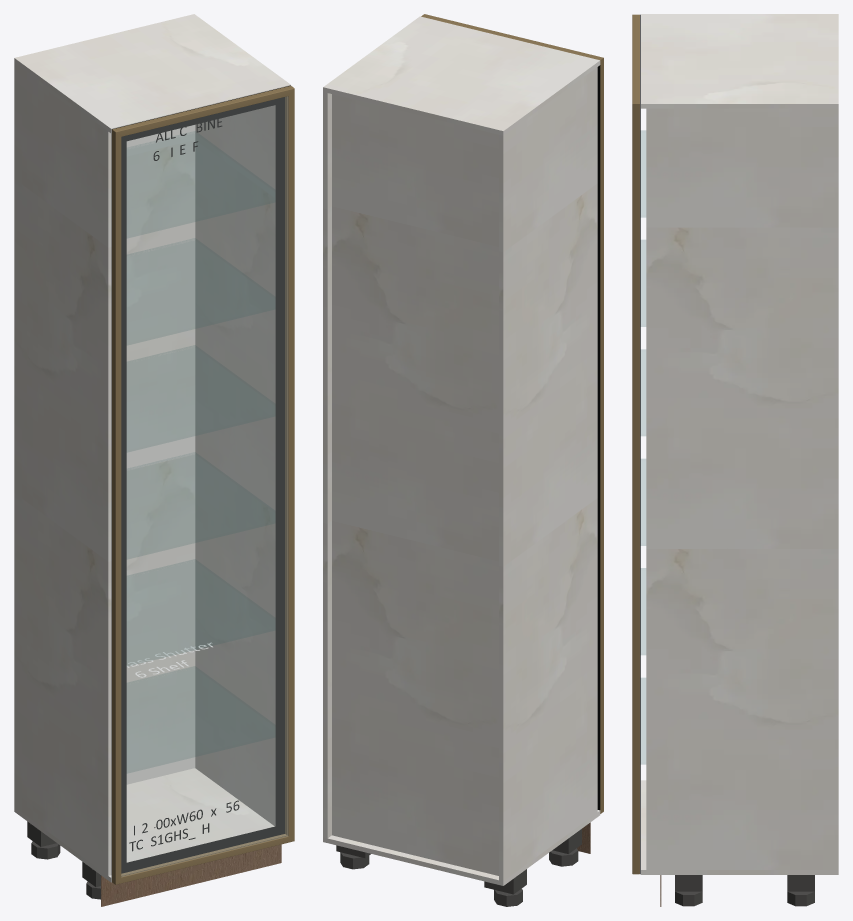
File: TC6S1GHS_LH (H2400xW600xD560).glb
3 views of the same model, side by side, from view 1: azimuth 30°, elevation 25°; view 2: azimuth 150°, elevation 25°; view 3: azimuth 270°, elevation 25° (orthographic). The views are drawn at different scales.
Size of what is drawn, in the model's own units: 0.6 by 2.5 by 0.582.
Materials: 9 (2 with a texture image).
